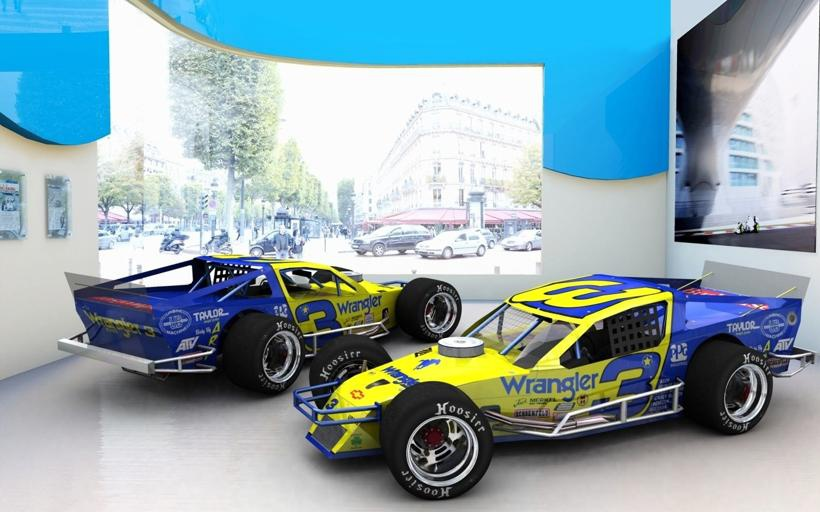non-vehicle: (159, 230, 189, 254), (199, 236, 233, 255)
